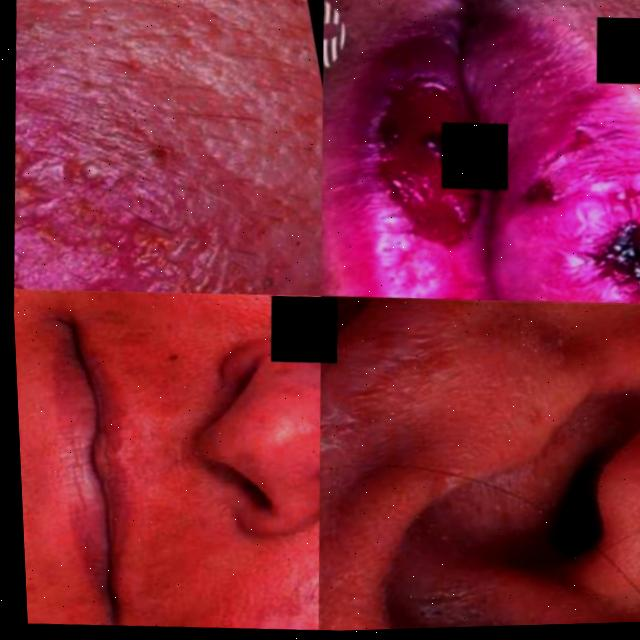lupus-detected: (304, 288, 609, 631), (307, 0, 640, 314), (1, 0, 313, 304), (52, 282, 325, 394), (66, 525, 323, 638), (255, 339, 329, 530)
